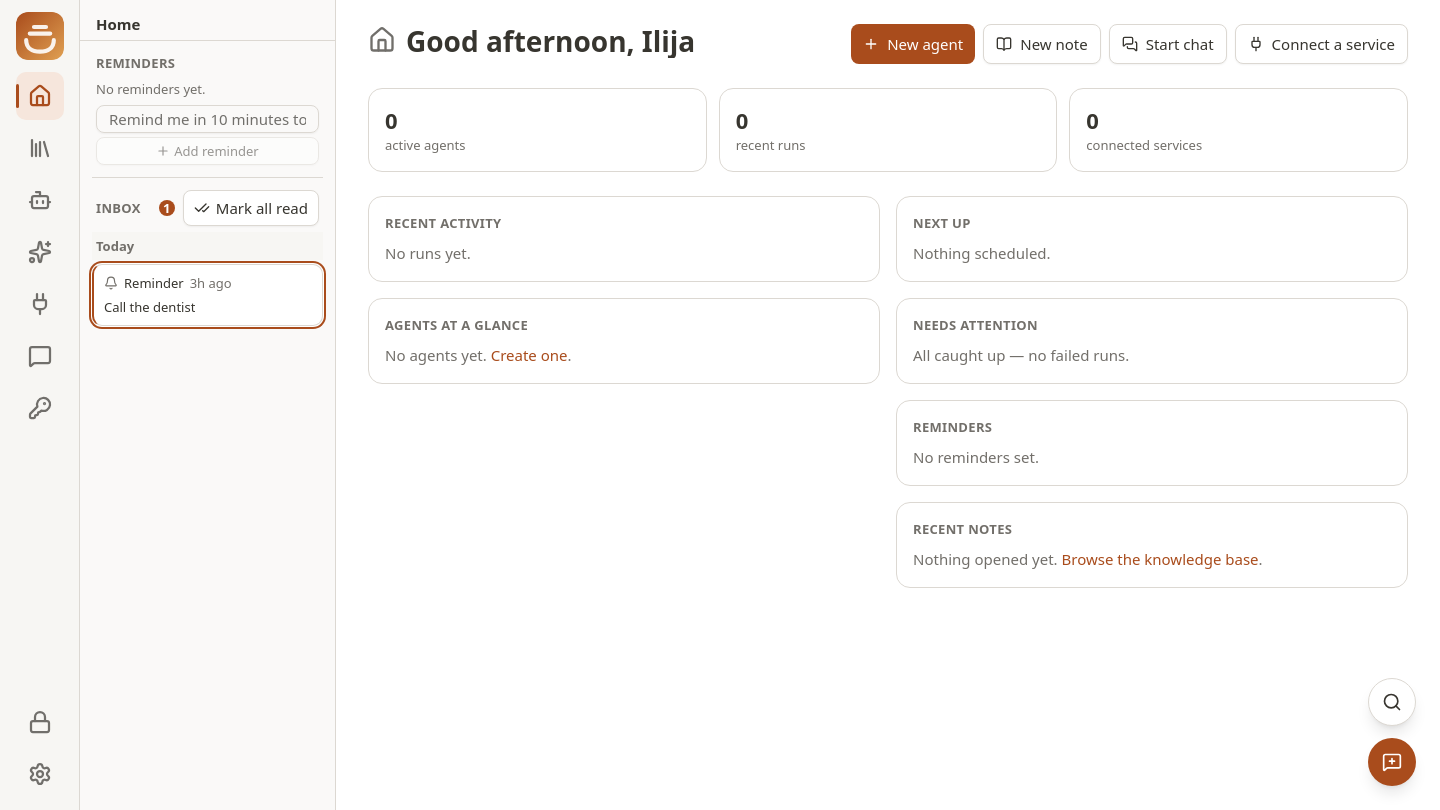
Test: a reminder-sourced message offers no View agent link
What coordinates should you click on to do the following:
click the text "Call the dentist"
I would click on:
 (150, 307)
Its box is [104,297,195,317].
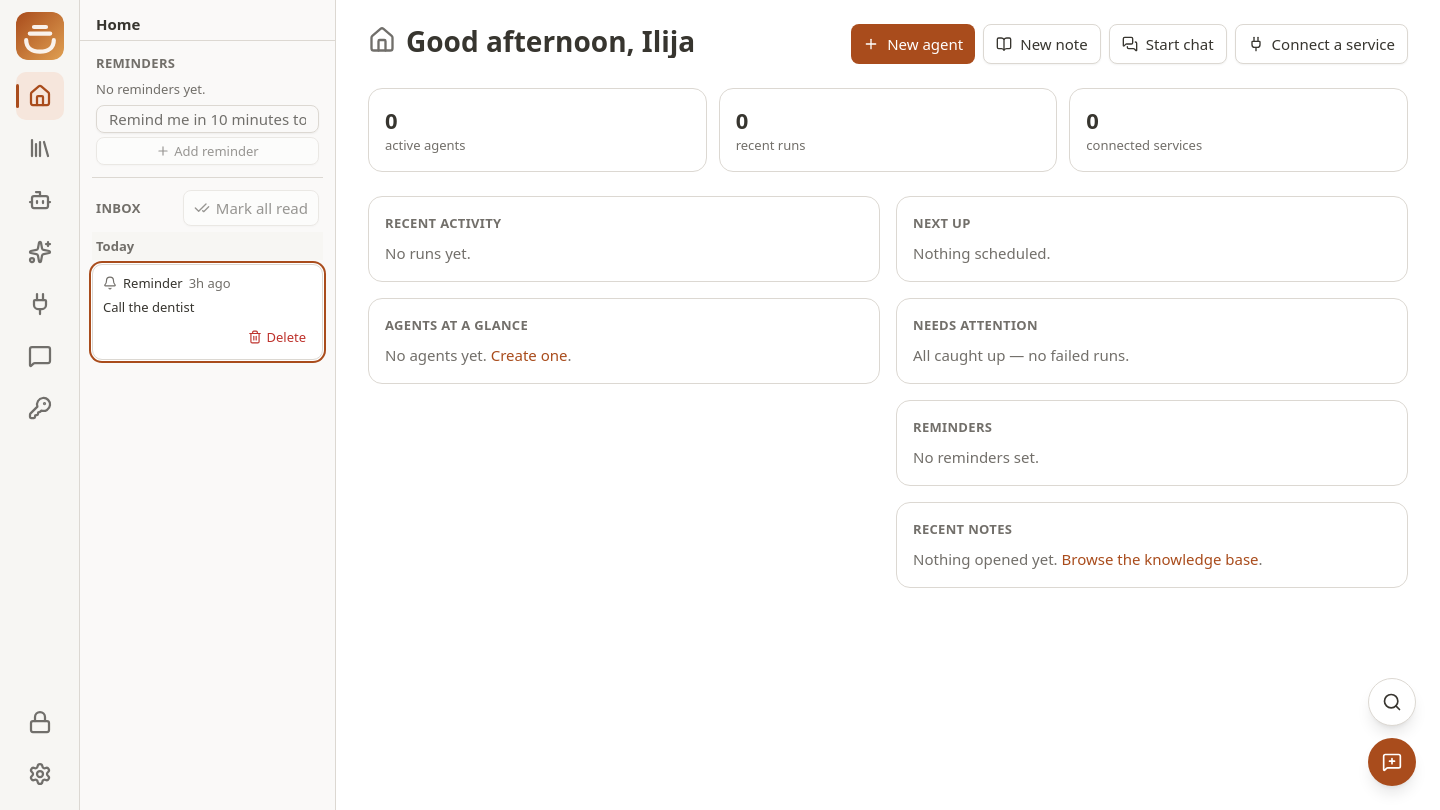
Result: the button "Delete" is shown at [242,323,312,351]
